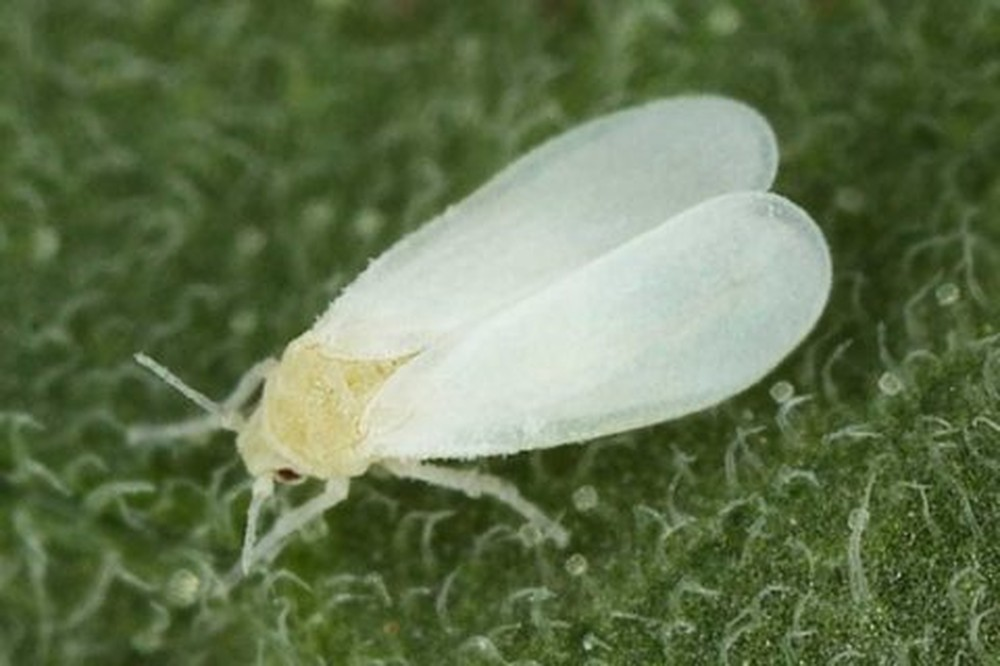Mosca Blanca: (127, 74, 853, 593)
